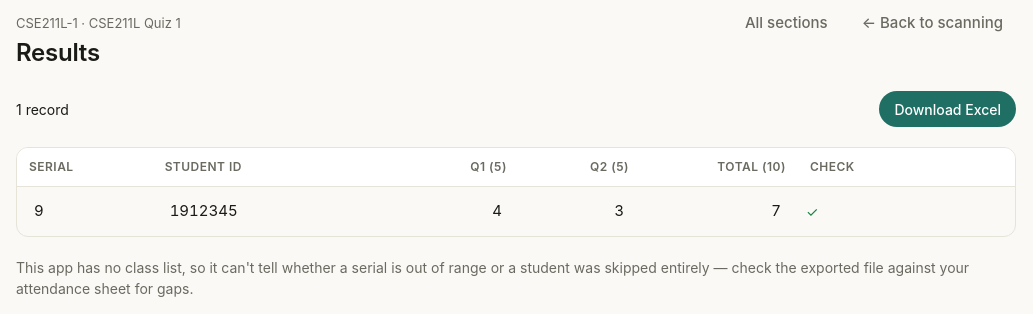
Test: Results — Total field validation (issues.md N6) › refuses an unparseable Total instead of persisting NaN
The image size is (1033, 314).
Expected: the 2nd field showing "1912345" is shown, [161,193,389,230]
Replace the text in the 5th field showing "7" with "abc" at (720, 212), box [649,193,790,230]
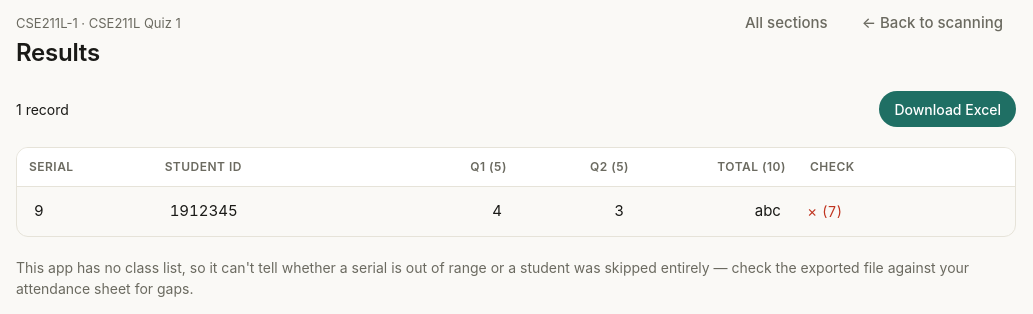
Leave the 5th field showing "7", box [649,193,790,230]
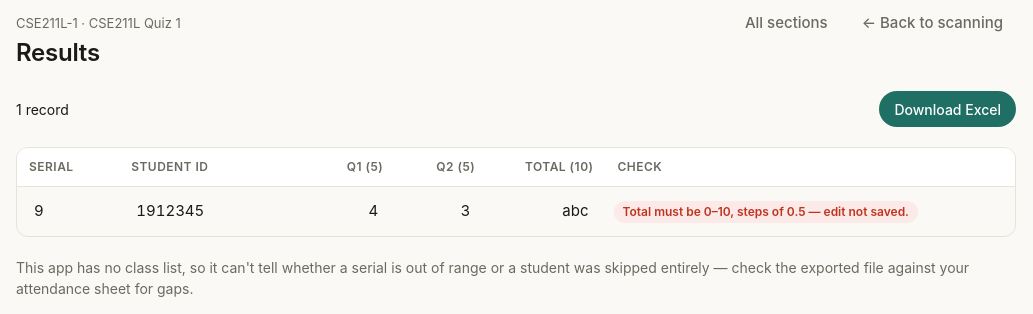
Result: the text "Total must be 0–10, steps of 0.5 — edit not saved." is shown at [614,201,918,223]
